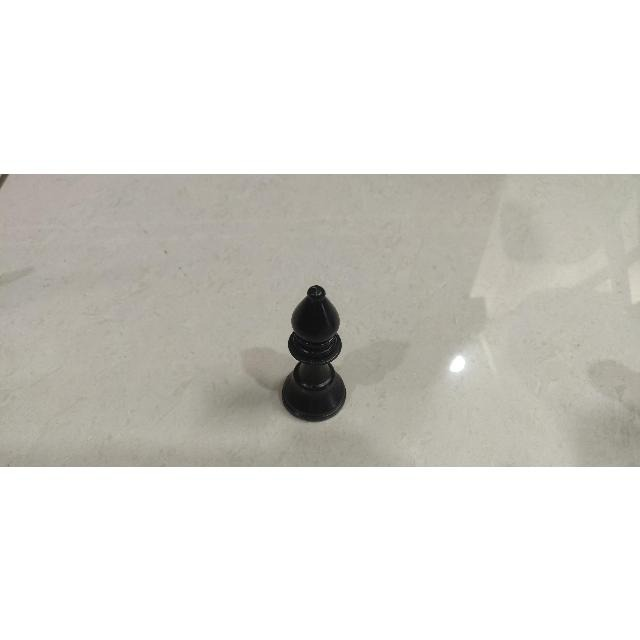black-bishop: (281, 277, 351, 423)
